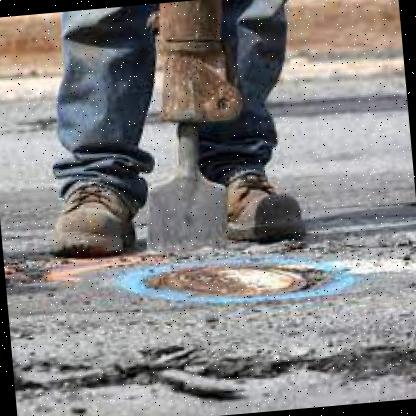bota: (40, 172, 144, 262), (222, 162, 313, 249)
